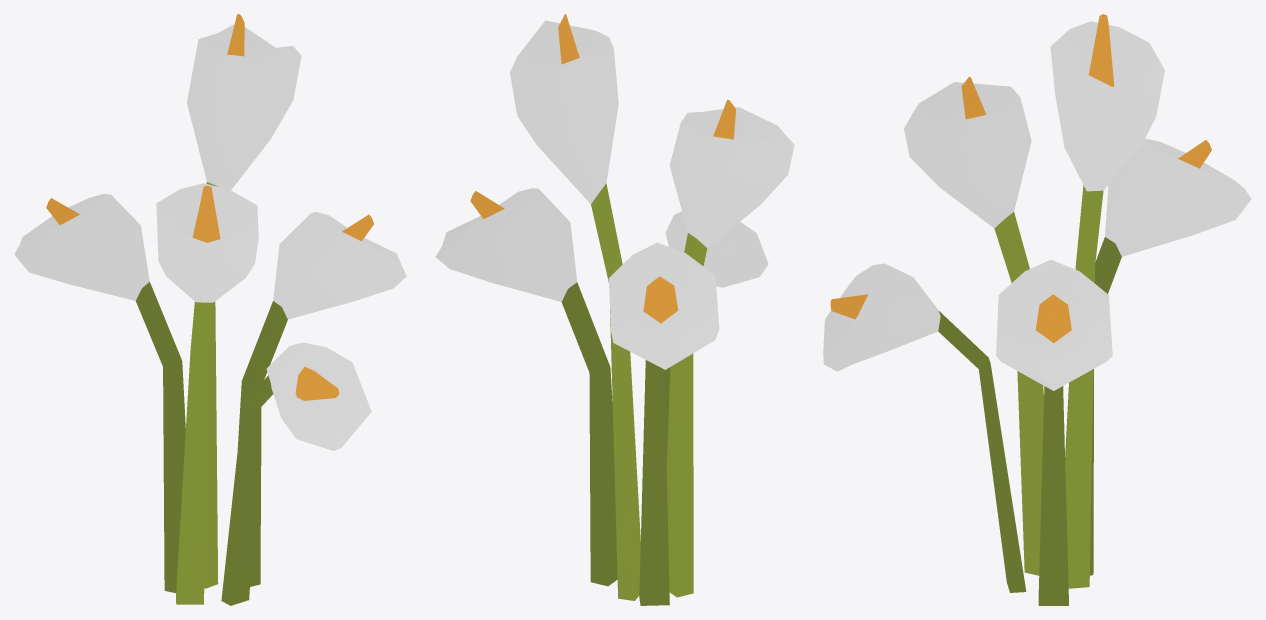
File: jungle_SM_Env_Flowers_02.gltf
3 renders of one model, left to right at view 1: azimuth 30°, elevation 25°; view 2: azimuth 150°, elevation 25°; view 3: azimuth 270°, elevation 25°, orthographic. The views are drawn at different scales.
Parts seen in each view (by area): view 1: SM_Env_Flowers_02_LOD0; view 2: SM_Env_Flowers_02_LOD0; view 3: SM_Env_Flowers_02_LOD0.
Part boxes in pixels (x1,y1,x2,y2): SM_Env_Flowers_02_LOD0: (14, 14, 406, 605); SM_Env_Flowers_02_LOD0: (435, 14, 794, 605); SM_Env_Flowers_02_LOD0: (823, 14, 1251, 605).
Size of what is drawn, in the model's own units: 0.7131 by 1.15 by 0.7483.
1 material, 1 textured.
